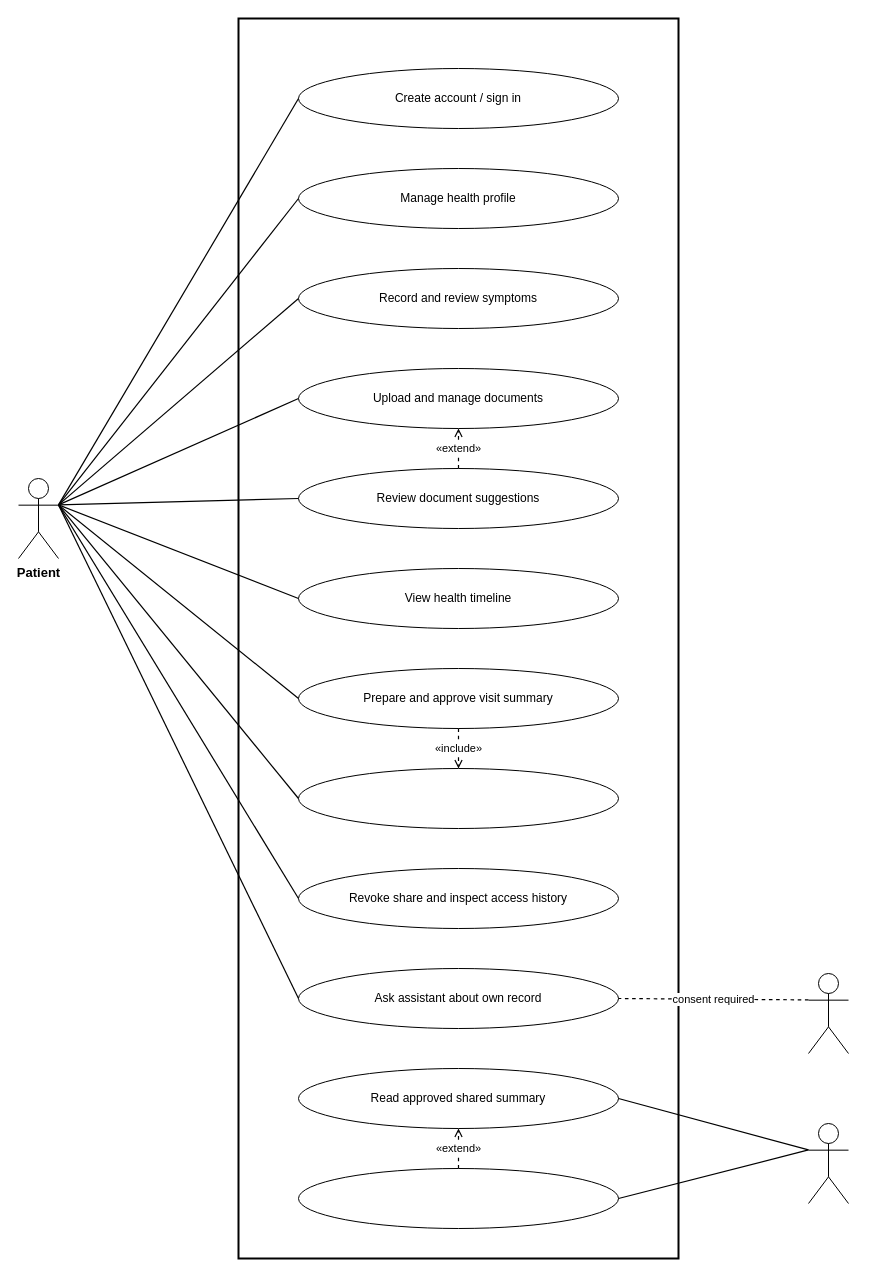
Image size: 885x1276. Some labels were removed from this diagram. The box of each missing label's shape, as (x1, y1, x2, y2) in pixels:
Clinician (no account): (808, 1122, 848, 1204)
Create temporary QR share: (298, 768, 618, 828)
Naseej: (237, 17, 679, 1259)
Open permitted shared document: (298, 1168, 618, 1228)
Optional AI Provider: (808, 972, 848, 1054)
